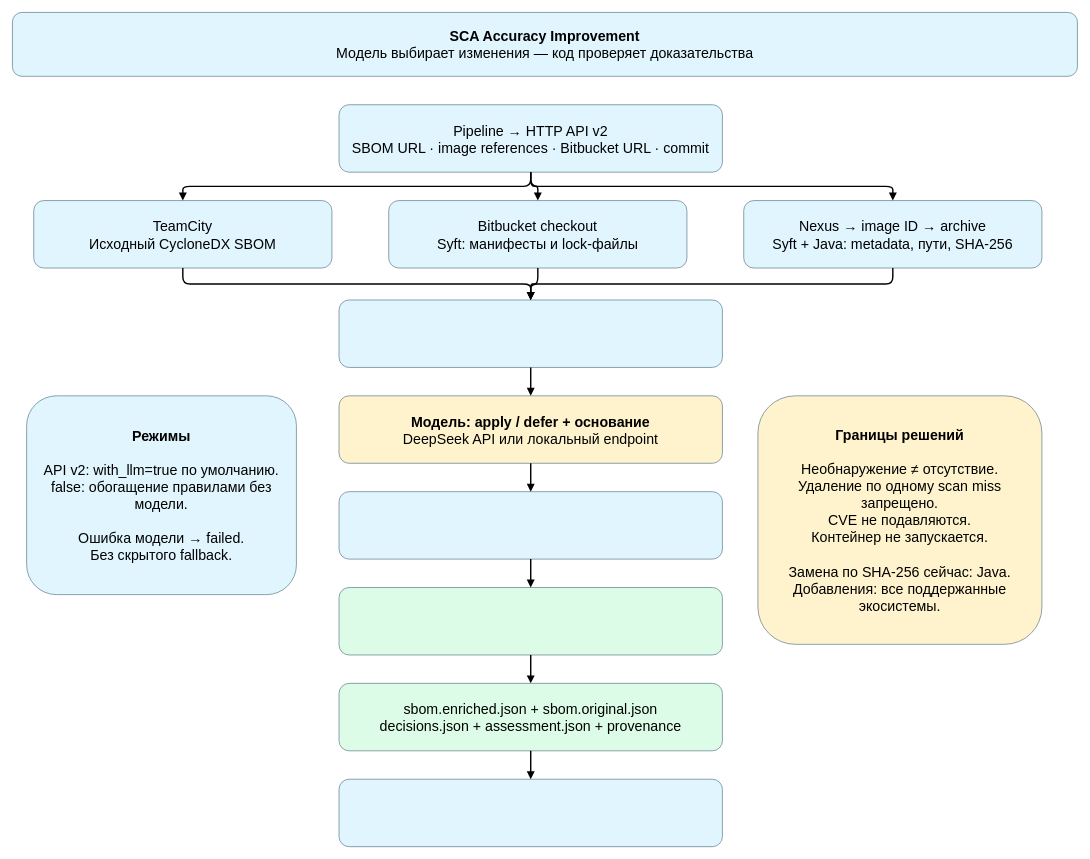
The diagram is 1090 pixels wide and 859 high, and some of its shapes have lost their labels. Each missing label, with the centre of its shape:
"Внешний pipeline получает результат Обновляет проект в Dependency-Track" goes at [530,813].
"Независимая проверка ID кандидата · сильная metadata · однозначный SHA-256" goes at [530,525].
"Применить add / replace_identity Повторная сверка и обогащение SBOM" goes at [530,621].
"Сопоставление и кандидаты изменений SBOM ↔ образ; SBOM ↔ исходники" goes at [530,333].
